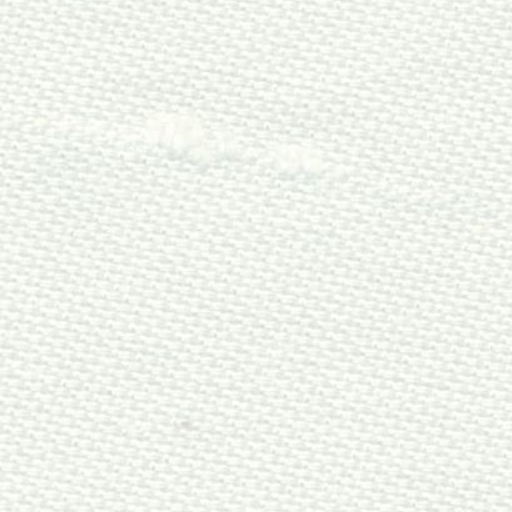DaiSha: (57, 90, 370, 199)
